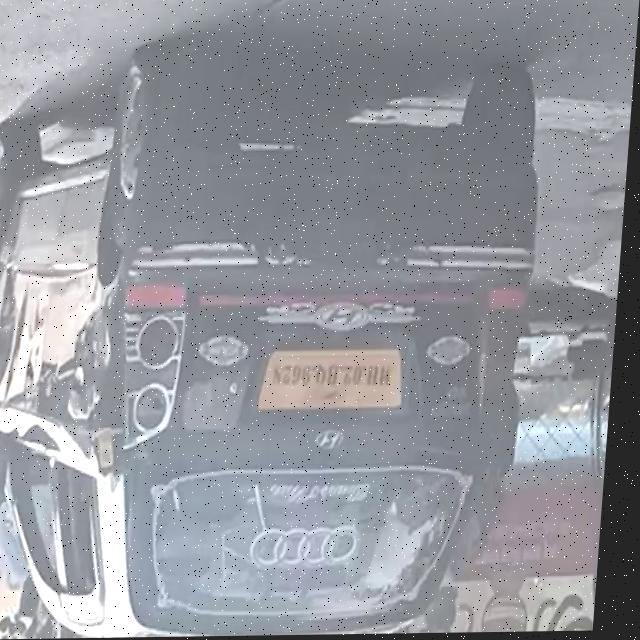plate: (258, 341, 417, 422)
